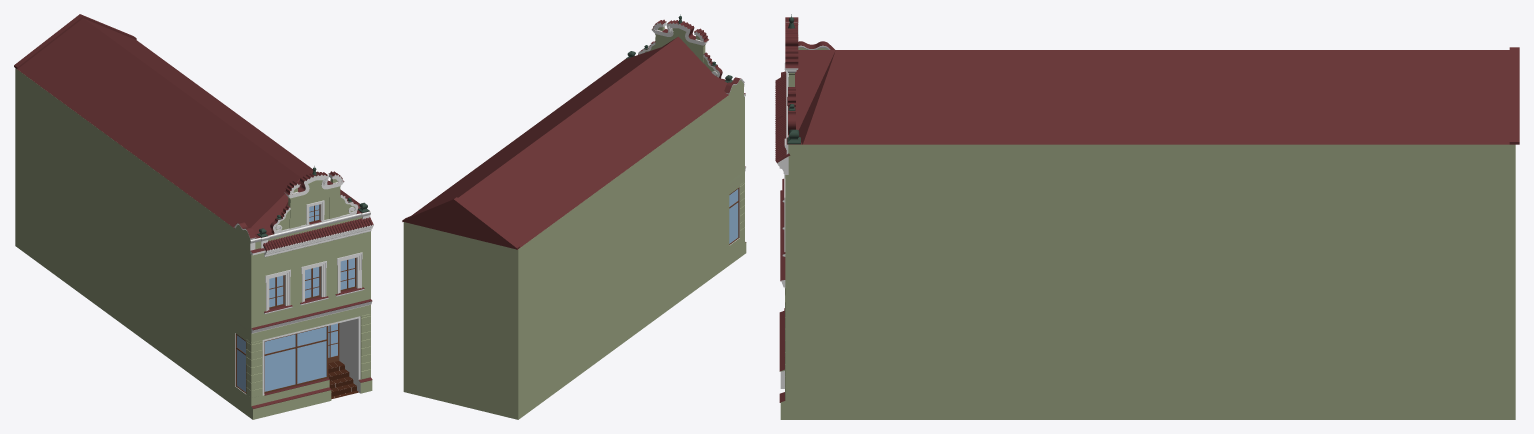
Rendered from piombino.glb.
The picture shows the model from 3 angles, left to right: view 1: azimuth 30°, elevation 25°; view 2: azimuth 150°, elevation 25°; view 3: azimuth 270°, elevation 25°; orthographic projection. The views are drawn at different scales.
Parts seen in each view (by area): view 1: Cube, Cube.002, Cylinder, Cylinder.001, Cube.001; view 2: Cube, Cube.002, Cylinder; view 3: Cube, Cube.002, Cylinder, Cylinder.001.
Boxes of the visible parts, <box> form: Cube: <box>15,68,372,419</box>; Cube.002: <box>14,14,360,233</box>; Cylinder: <box>257,166,369,237</box>; Cylinder.001: <box>263,217,373,251</box>; Cube.001: <box>263,224,373,257</box>; Cube: <box>403,77,746,419</box>; Cube.002: <box>402,36,728,249</box>; Cylinder: <box>626,14,732,82</box>; Cube: <box>779,41,1515,419</box>; Cube.002: <box>795,47,1519,144</box>; Cylinder: <box>785,14,800,144</box>; Cylinder.001: <box>775,74,790,162</box>.
Bounding box in the file's own units: 18.1 × 33.88 × 62.61.
